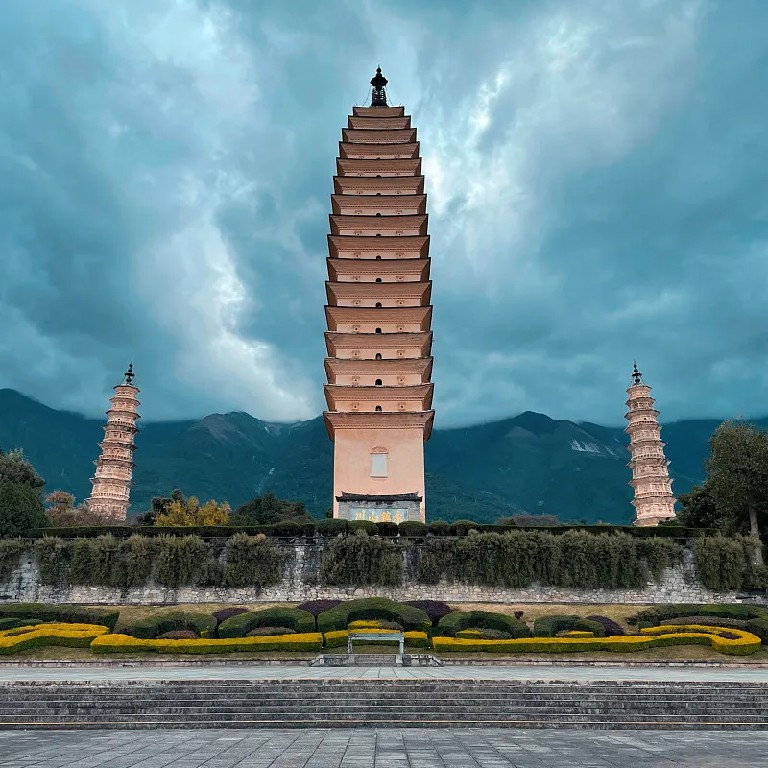ThreePagoda: (324, 64, 435, 523)
